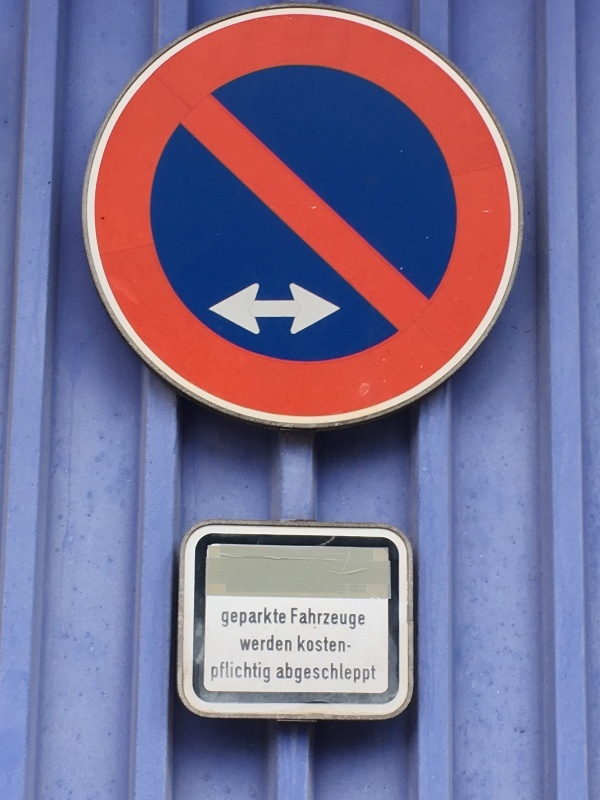text: (305, 608, 320, 631), (321, 608, 336, 631), (337, 608, 352, 631), (225, 661, 240, 683), (241, 661, 256, 683), (289, 663, 304, 684), (305, 663, 320, 684), (321, 663, 336, 684), (337, 663, 352, 684), (353, 663, 368, 684), (257, 661, 271, 683), (225, 608, 240, 628), (241, 608, 256, 628), (257, 608, 272, 628), (291, 608, 304, 631), (353, 608, 365, 631), (241, 634, 256, 652), (257, 634, 272, 652), (273, 634, 288, 652), (305, 635, 320, 653), (321, 635, 336, 653), (337, 635, 352, 653), (212, 661, 224, 683), (273, 608, 286, 628), (277, 663, 288, 684), (369, 663, 376, 684), (298, 635, 304, 653), (289, 634, 292, 652), (222, 608, 224, 628)
